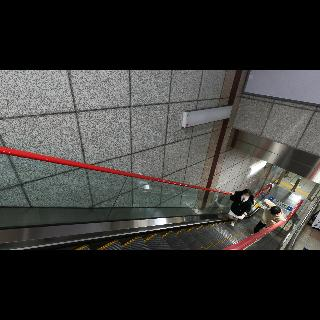normal: (251, 200, 287, 237), (227, 188, 253, 228)
